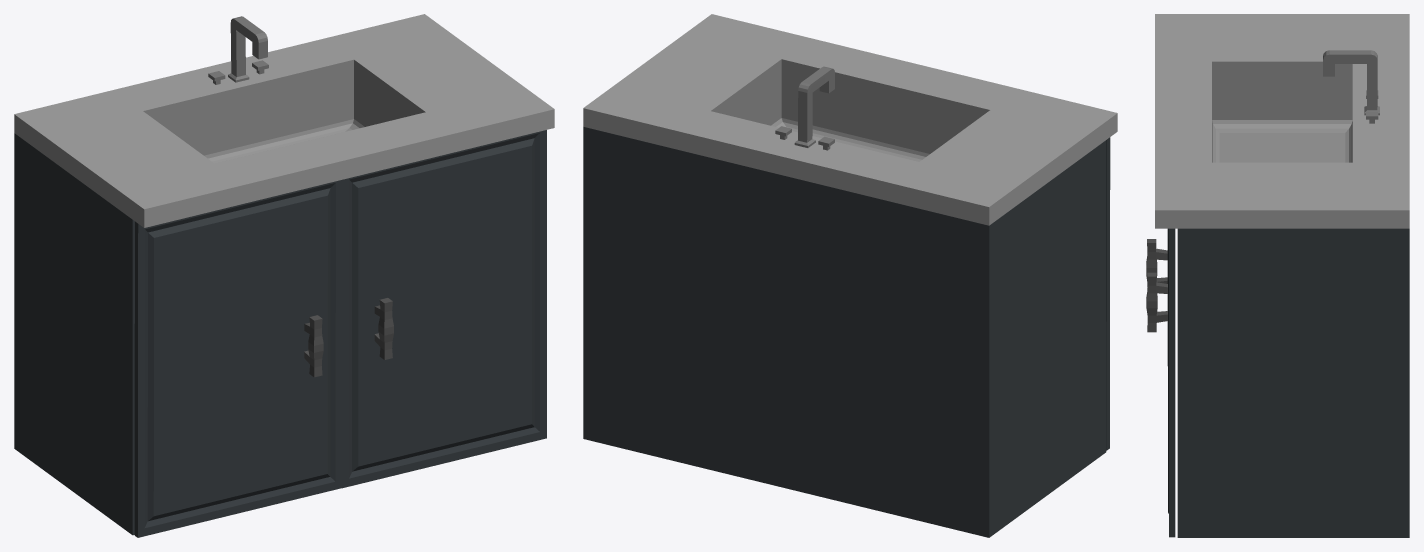
File: Furniture_02.fbx
3 views of the same model, side by side, from view 1: azimuth 30°, elevation 25°; view 2: azimuth 150°, elevation 25°; view 3: azimuth 270°, elevation 25° (orthographic). The views are drawn at different scales.
Visible parts, largest first — view 1: Furniture_02, Furniture_02_2, Furniture_02_3; view 2: Furniture_02, Furniture_02_2; view 3: Furniture_02, Furniture_02_3, Furniture_02_2.
Boxes of the visible parts, x1,y1,x2,y2 form: Furniture_02: [14, 14, 554, 535]; Furniture_02_2: [134, 179, 342, 537]; Furniture_02_3: [342, 130, 546, 488]; Furniture_02: [583, 14, 1117, 537]; Furniture_02_2: [1106, 137, 1110, 450]; Furniture_02: [1155, 14, 1409, 537]; Furniture_02_3: [1146, 228, 1175, 537]; Furniture_02_2: [1146, 229, 1167, 365].
Bounding box in the file's own units: 111 × 102 × 63.15.
